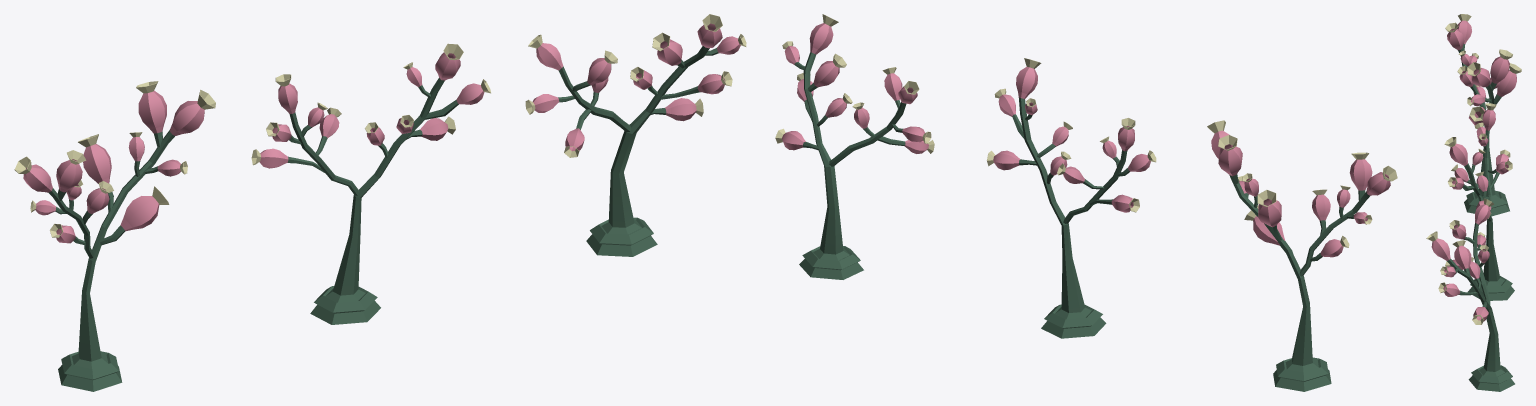
The model's file is Plant_01.fbx.
The picture shows the model from 3 angles, left to right: view 1: azimuth 30°, elevation 25°; view 2: azimuth 150°, elevation 25°; view 3: azimuth 270°, elevation 25°; orthographic projection. The views are drawn at different scales.
Visible parts, largest first — view 1: polySurface40, polySurface65, polySurface62; view 2: polySurface40, polySurface65, polySurface62; view 3: polySurface65, polySurface40, polySurface62.
Part boxes in pixels (x1,y1,x2,y2): polySurface40: [14, 81, 215, 391]; polySurface65: [525, 14, 746, 256]; polySurface62: [251, 43, 490, 324]; polySurface40: [1207, 120, 1397, 391]; polySurface65: [775, 14, 934, 279]; polySurface62: [987, 58, 1156, 338]; polySurface65: [1426, 198, 1514, 391]; polySurface40: [1445, 14, 1521, 216]; polySurface62: [1444, 103, 1514, 300].
Bounding box in the file's own units: 42.98 × 15.41 × 7.42.
